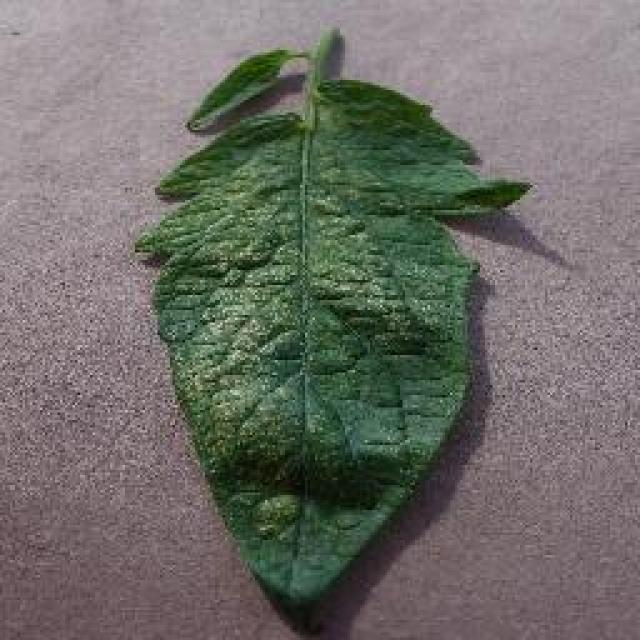Tomato___Spider_mites Two-spotted_spider_mite: (135, 30, 528, 602)
